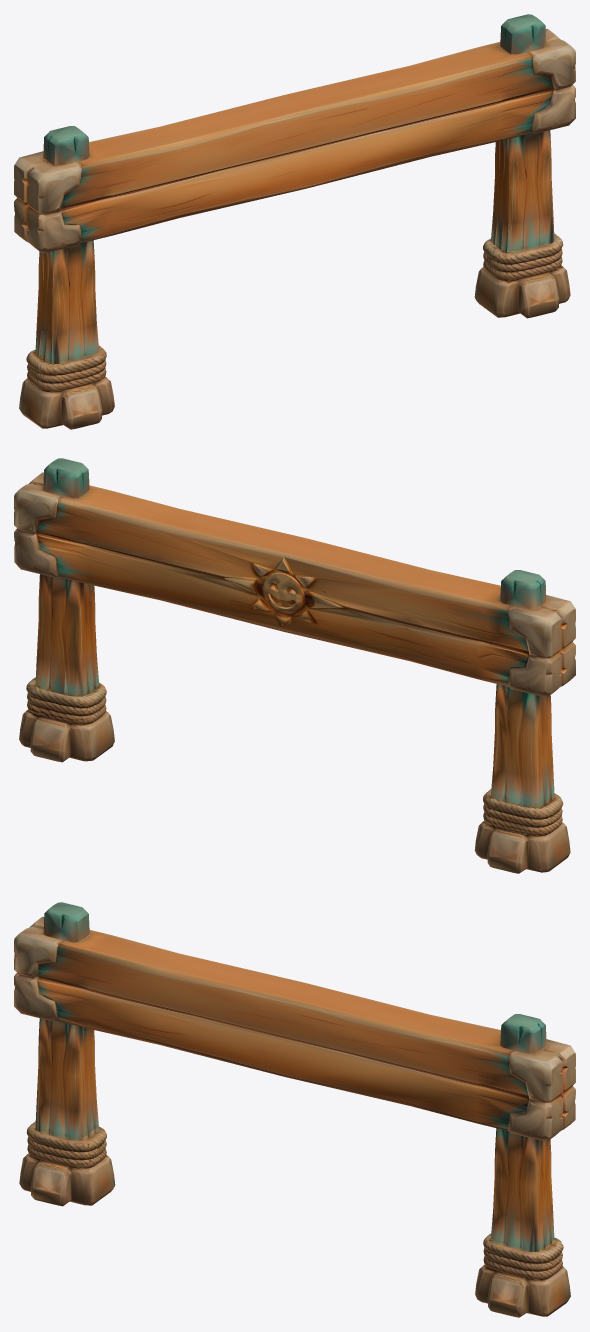
File: asset.glb
3 renders of one model, top to bottom at view 1: azimuth 30°, elevation 25°; view 2: azimuth 150°, elevation 25°; view 3: azimuth 330°, elevation 25°, orthographic.
Visible parts, largest first — view 1: material; view 2: material; view 3: material.
Boxes of the visible parts, bbox=[...] form: material: bbox=[14, 14, 575, 429]; material: bbox=[14, 458, 575, 873]; material: bbox=[14, 902, 575, 1317].
Size of the model in its own units: 85.97 by 42.84 by 11.
Materials: 1 (1 with a texture image).
